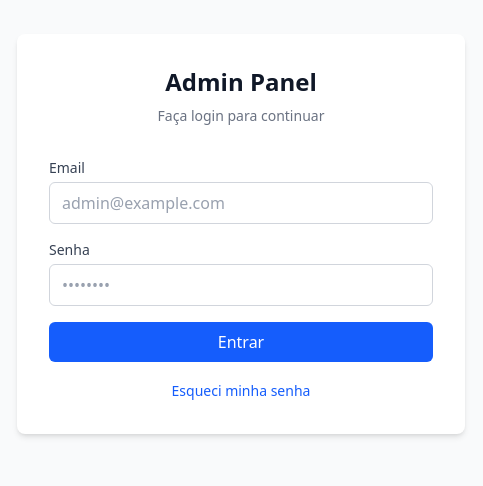
Test case: LoginPage › on submit with invalid credentials, shows "Email ou senha inválidos." error
In the field labelled "Email": (241, 203) [49,182,433,224], type "wrong@example.com"
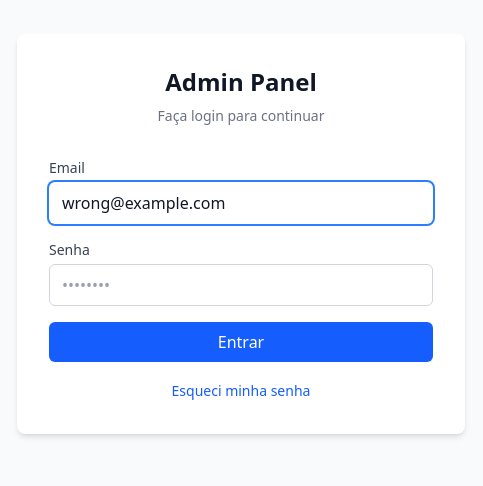
In the password field labelled "Senha": (241, 285) [49,264,433,306], type "wrongpassword"
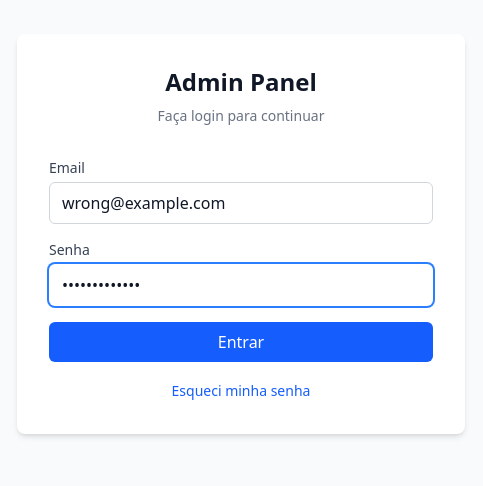
Click the button "Entrar": (241, 342) [49,322,433,362]
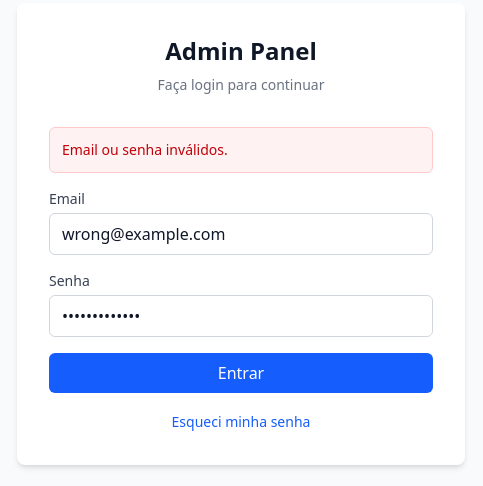
Now the text "Email ou senha inválidos." is shown, box [49,127,433,173]
